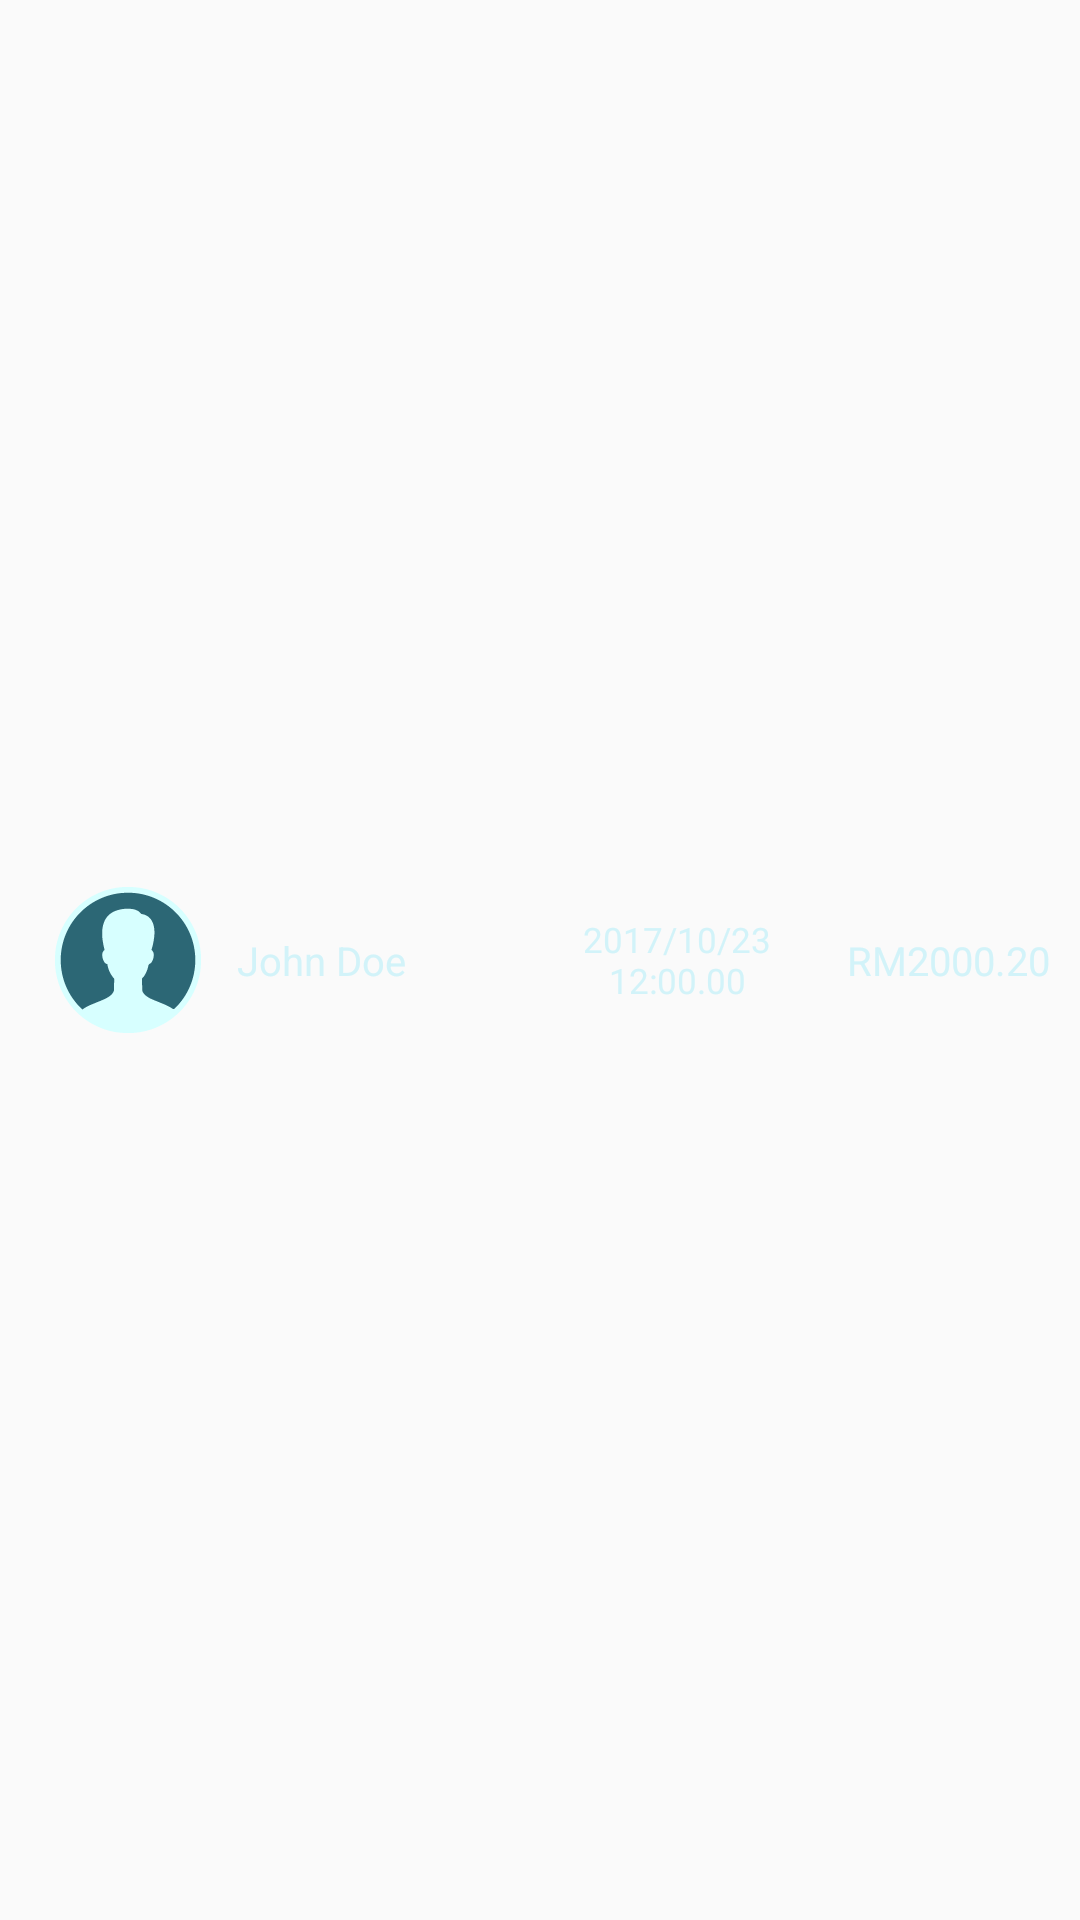

Icons on this 1080w x 1920h Android screen, each with its box as (x1, y1, x2, y2):
user: (55, 887, 201, 1033)
